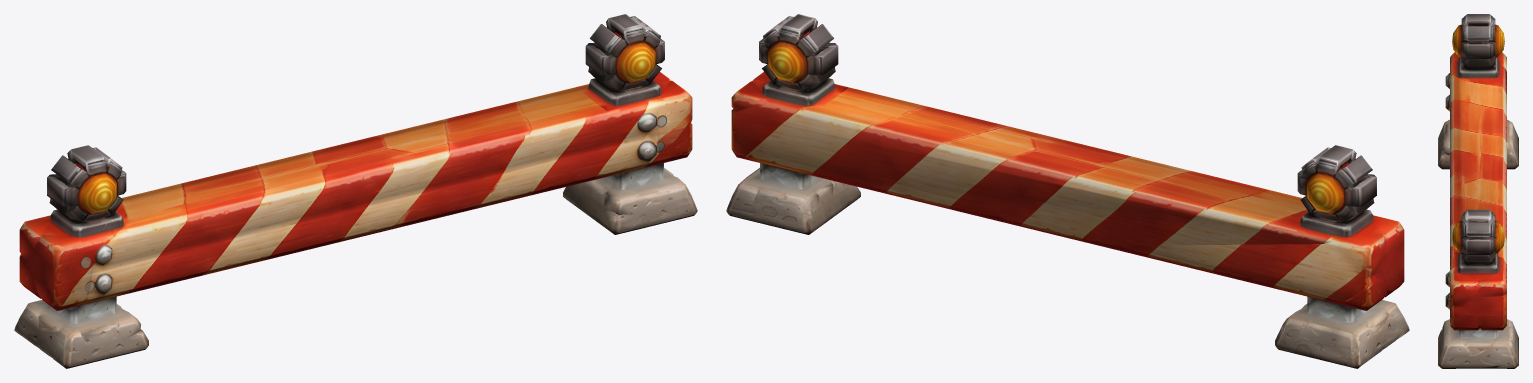
File: LL_RoadBarricade.fbx
The picture shows the model from 3 angles, left to right: view 1: azimuth 30°, elevation 25°; view 2: azimuth 150°, elevation 25°; view 3: azimuth 270°, elevation 25°; orthographic projection. The views are drawn at different scales.
Visible parts, largest first — view 1: tripo_node_42f31290; view 2: tripo_node_42f31290; view 3: tripo_node_42f31290.
Part boxes in pixels (x1,y1,x2,y2): tripo_node_42f31290: (14,14,697,368); tripo_node_42f31290: (726,14,1409,368); tripo_node_42f31290: (1438,14,1518,368).
Bounding box in the file's own units: 97.78 × 14.35 × 27.36.
1 material, 1 textured.
